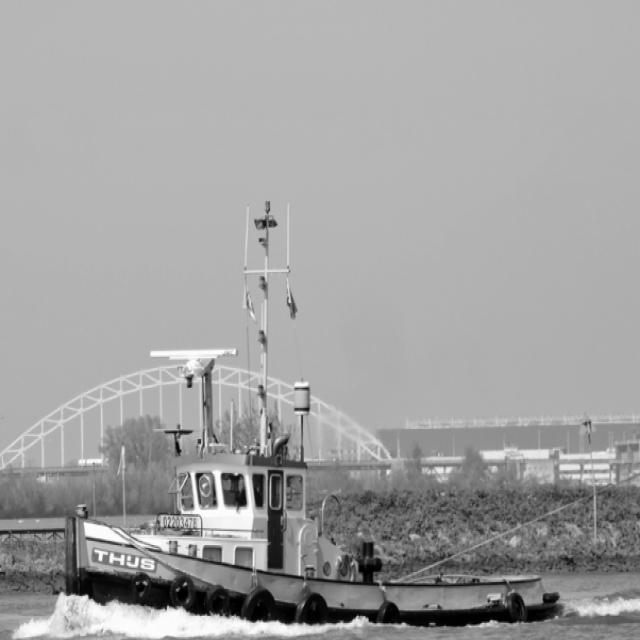tugboat: (60, 196, 569, 640)
